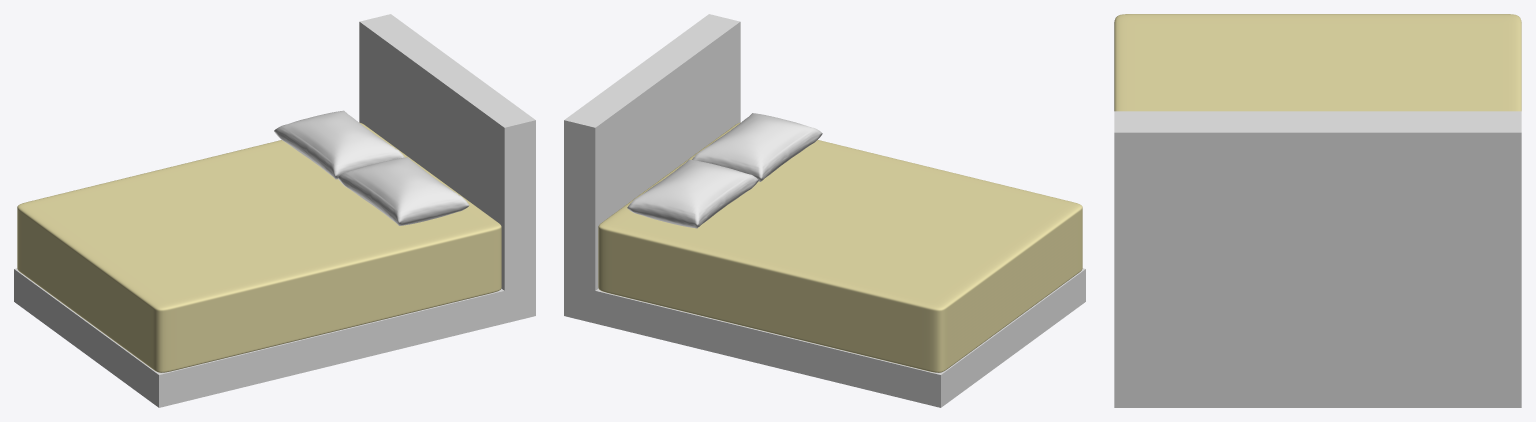
File: bed.fbx
3 views of the same model, side by side, from view 1: azimuth 30°, elevation 25°; view 2: azimuth 150°, elevation 25°; view 3: azimuth 270°, elevation 25° (orthographic). The views are drawn at different scales.
Visible parts, largest first — view 1: bed, bed-frame, pillow.002, pillow.001; view 2: bed, bed-frame, pillow.001, pillow.002; view 3: bed-frame, bed.
Part boxes in pixels (box(x1,y1,x2,y2)): bed: box(17, 122, 501, 372); bed-frame: box(14, 14, 535, 407); pillow.002: box(337, 157, 469, 225); pillow.001: box(274, 110, 404, 179); bed: box(598, 122, 1082, 372); bed-frame: box(564, 14, 1085, 407); pillow.001: box(627, 159, 758, 228); pillow.002: box(692, 113, 822, 181); bed-frame: box(1114, 111, 1521, 407); bed: box(1114, 14, 1521, 111).
Size of the model in its own units: 800 by 596 by 1200.
